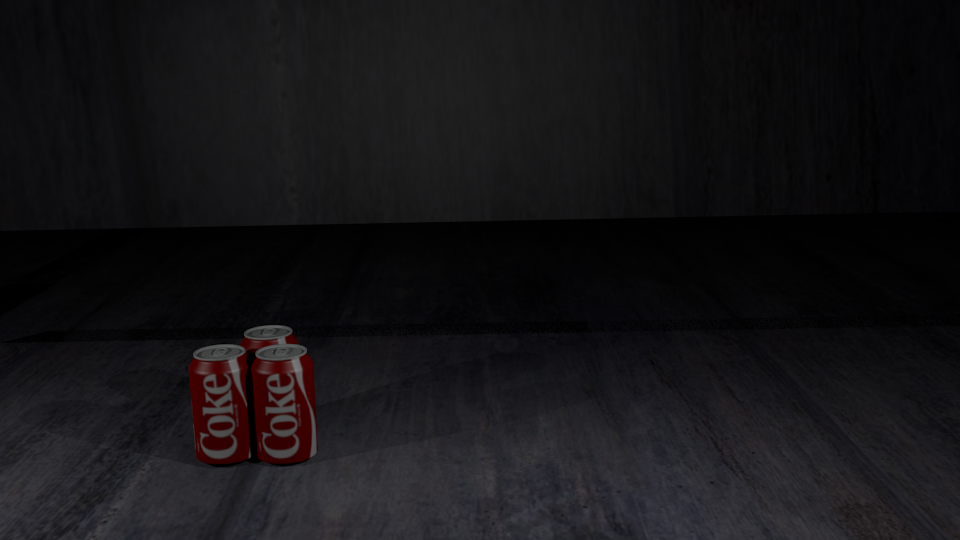cola_can: (189, 345, 253, 461), (251, 344, 315, 459), (240, 325, 297, 435)
